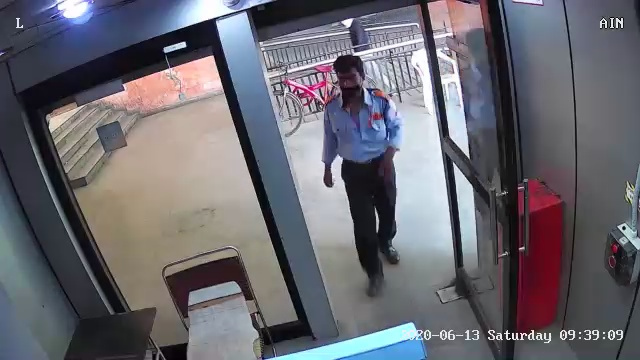open: (213, 4, 550, 356)
